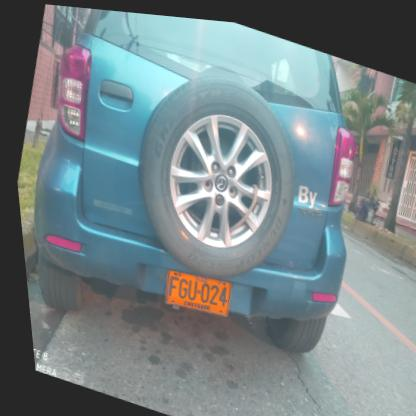placa: (146, 254, 235, 325)
